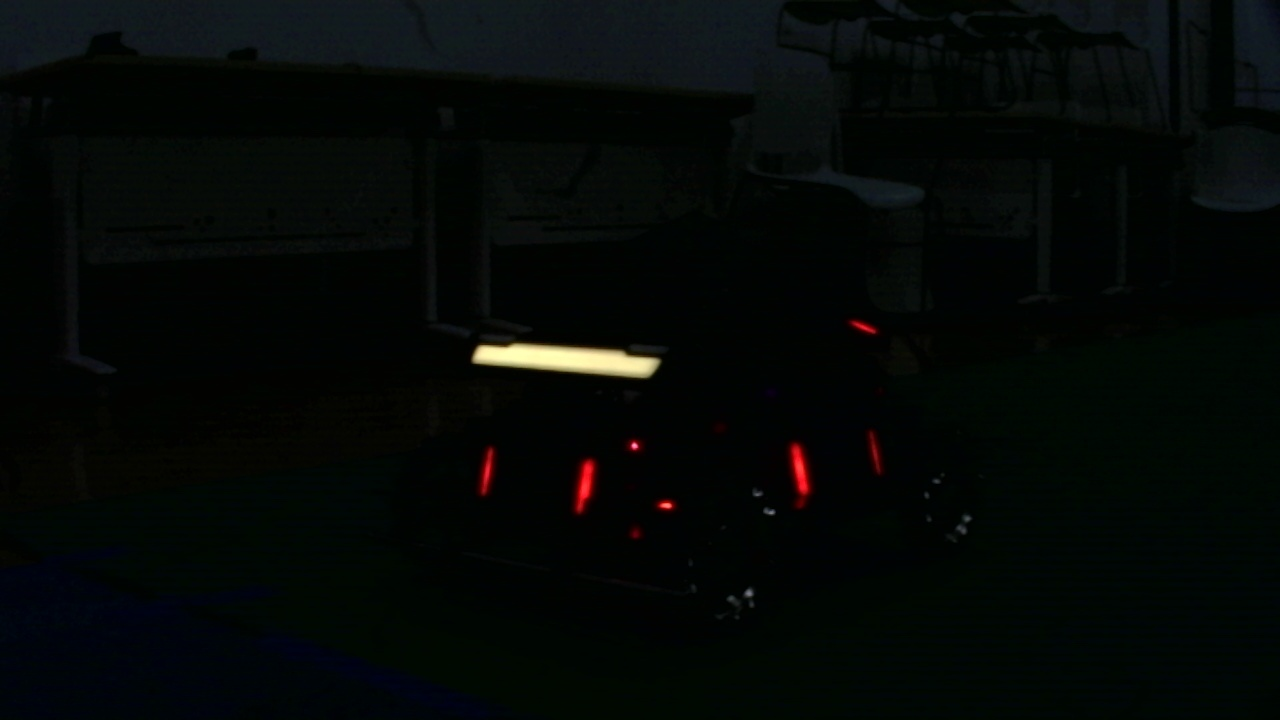lamp: (575, 454, 595, 516), (476, 447, 497, 503)
notpair1: (577, 439, 814, 517)
pair1: (476, 447, 596, 517)
